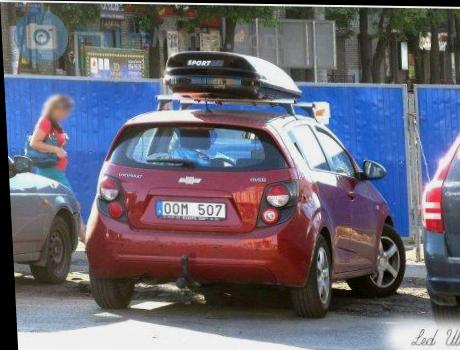License_Plate: (150, 196, 234, 230)
